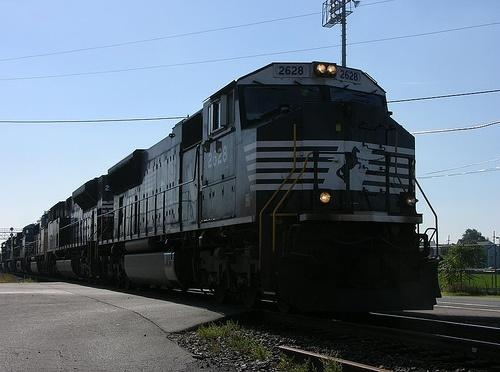train: (1, 61, 442, 324)
